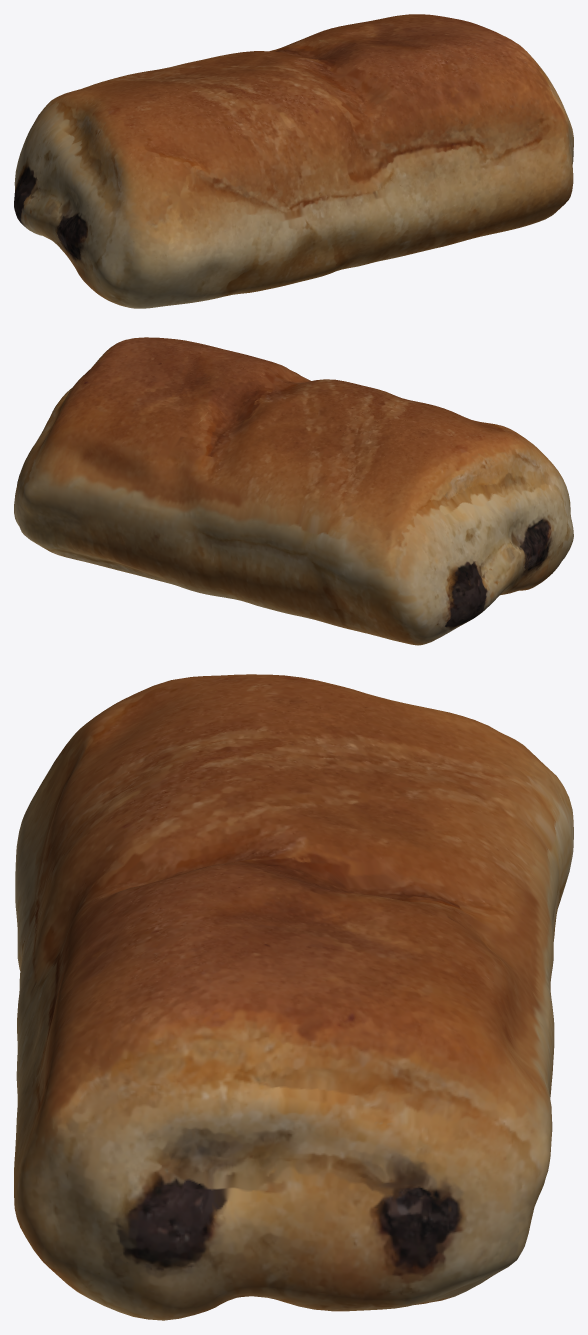
File: uploads_files_3613241_PainAuChoc_LOD2.glb
3 renders of one model, top to bottom at view 1: azimuth 30°, elevation 25°; view 2: azimuth 150°, elevation 25°; view 3: azimuth 270°, elevation 25°, orthographic. The views are drawn at different scales.
Parts seen in each view (by area): view 1: PainAuChoc_LOD2; view 2: PainAuChoc_LOD2; view 3: PainAuChoc_LOD2.
Part boxes in pixels (x1,y1,x2,y2): PainAuChoc_LOD2: (14, 14, 573, 308); PainAuChoc_LOD2: (14, 337, 573, 645); PainAuChoc_LOD2: (14, 674, 573, 1320).
Bounding box in the file's own units: 1.5 × 0.5125 × 0.8324.
1 material, 1 textured.
